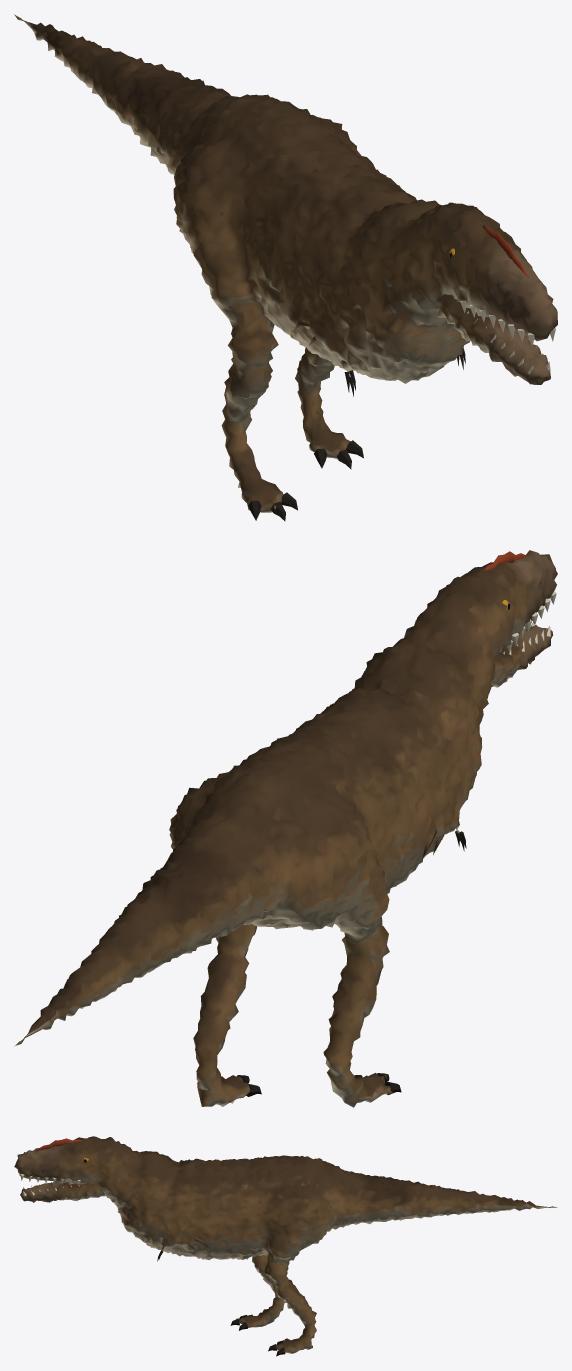
File: Yutyrannus.fbx
3 renders of one model, top to bottom at view 1: azimuth 30°, elevation 25°; view 2: azimuth 150°, elevation 25°; view 3: azimuth 270°, elevation 25°, orthographic. The views are drawn at different scales.
Visible parts, largest first — view 1: Yutyrannus; view 2: Yutyrannus; view 3: Yutyrannus.
Part boxes in pixels (<box>): Yutyrannus: <box>14,14,557,521</box>; Yutyrannus: <box>14,550,557,1107</box>; Yutyrannus: <box>14,1136,557,1356</box>.
Bounding box in the file's own units: 0.3988 × 0.8308 × 2.03.
